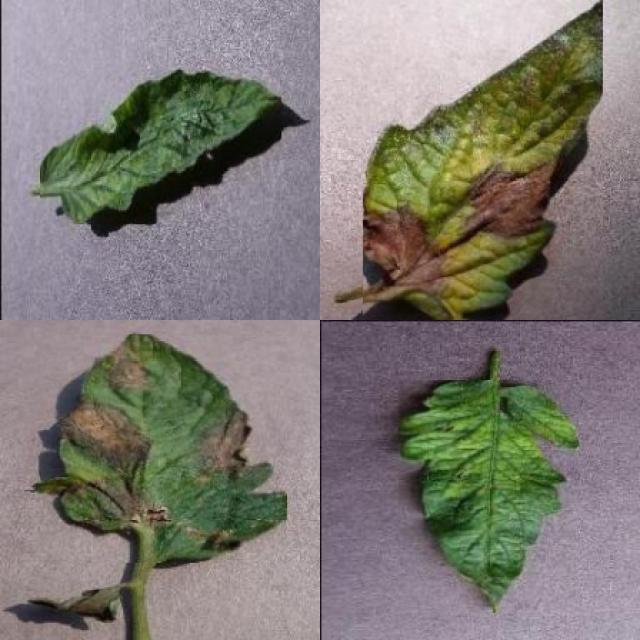Late Blight: (363, 0, 603, 320), (34, 334, 287, 562)
Mosaic Virus: (398, 380, 578, 613), (40, 69, 281, 224)
